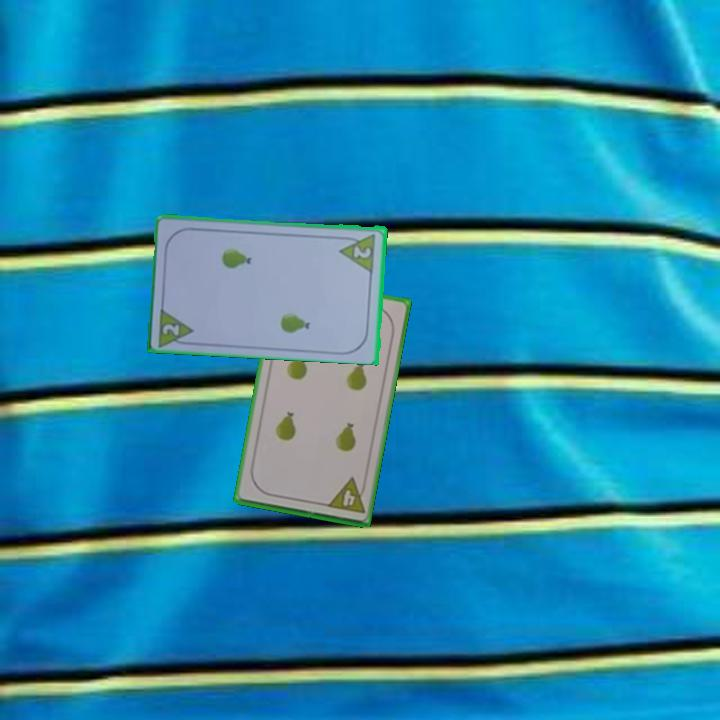2p: (350, 243, 374, 261), (159, 320, 183, 338)
4p: (323, 474, 369, 516)
